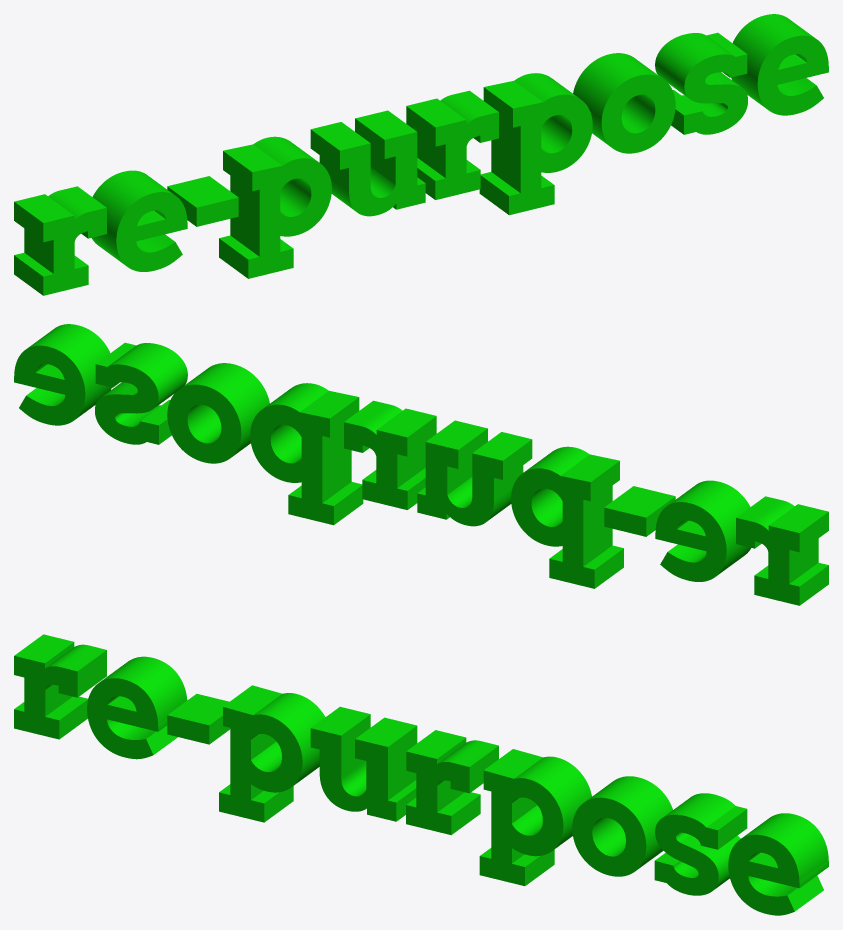
Rendered from REPURPOSE.gltf.
3 views of the same model, one above another, from view 1: azimuth 30°, elevation 25°; view 2: azimuth 150°, elevation 25°; view 3: azimuth 330°, elevation 25° (orthographic).
Parts seen in each view (by area): view 1: AR WORDS; view 2: AR WORDS; view 3: AR WORDS.
Boxes of the visible parts, x1,y1,x2,y2 form: AR WORDS: [14, 14, 828, 295]; AR WORDS: [14, 324, 828, 605]; AR WORDS: [14, 634, 828, 915].
Size of the model in its own units: 3.62 by 0.4823 by 0.2346.
